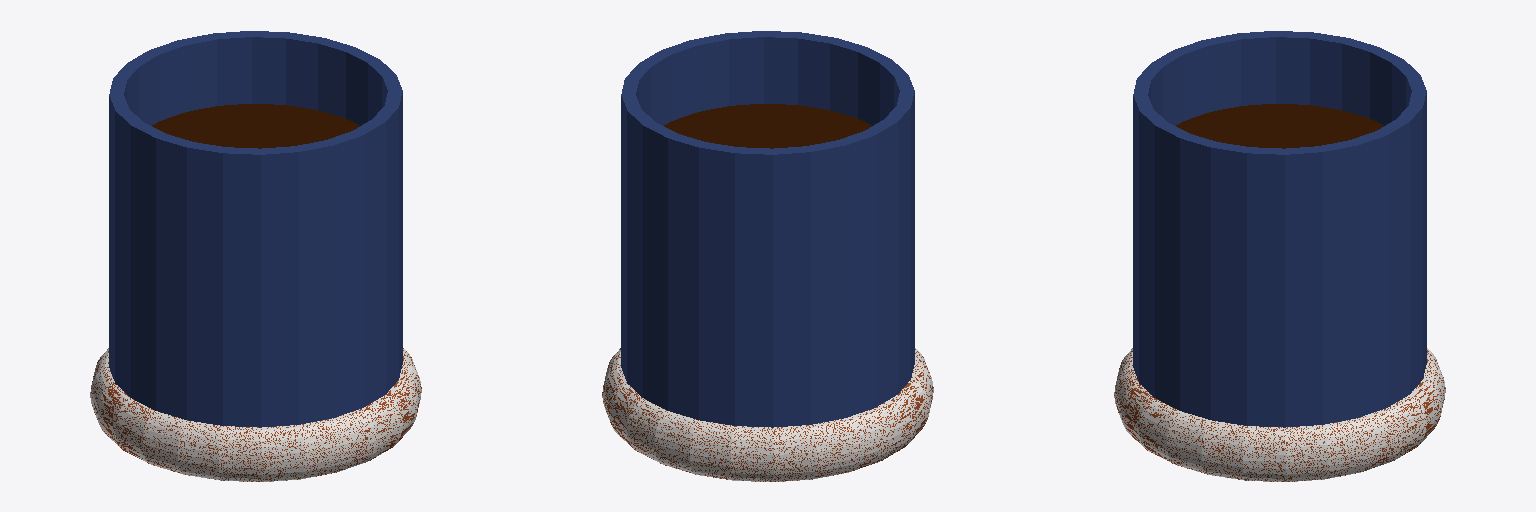
3 views of the same model, side by side, from view 1: azimuth 30°, elevation 25°; view 2: azimuth 150°, elevation 25°; view 3: azimuth 270°, elevation 25° (orthographic).
Parts seen in each view (by area): view 1: SketchUp.003_ID27.038, SketchUp.002_ID19.028, SketchUp.005_ID43.002, SketchUp.004_ID35.002; view 2: SketchUp.003_ID27.038, SketchUp.002_ID19.028, SketchUp.005_ID43.002, SketchUp.004_ID35.002; view 3: SketchUp.003_ID27.038, SketchUp.002_ID19.028, SketchUp.005_ID43.002, SketchUp.004_ID35.002.
Part boxes in pixels (x1,y1,x2,y2): SketchUp.003_ID27.038: (109,31,402,427); SketchUp.002_ID19.028: (90,348,421,481); SketchUp.005_ID43.002: (124,37,387,125); SketchUp.004_ID35.002: (152,104,359,148); SketchUp.003_ID27.038: (621,31,914,427); SketchUp.002_ID19.028: (602,348,933,481); SketchUp.005_ID43.002: (636,37,899,125); SketchUp.004_ID35.002: (664,104,871,148); SketchUp.003_ID27.038: (1133,31,1426,427); SketchUp.002_ID19.028: (1114,348,1445,481); SketchUp.005_ID43.002: (1148,37,1411,125); SketchUp.004_ID35.002: (1176,104,1383,148).
Bounding box in the file's own units: 0.1013 × 0.11 × 0.1013.